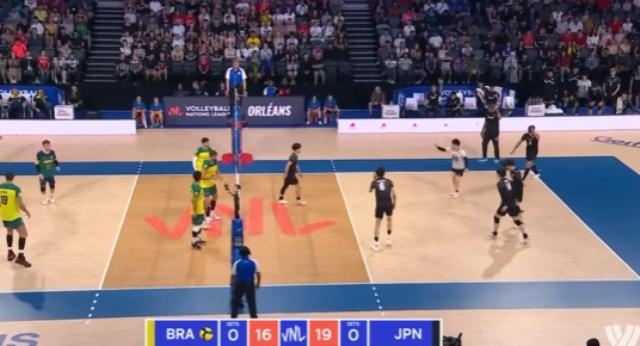Levantador: (271, 135, 315, 216), (186, 130, 216, 176)
Libero: (28, 134, 70, 210), (432, 132, 478, 200)
